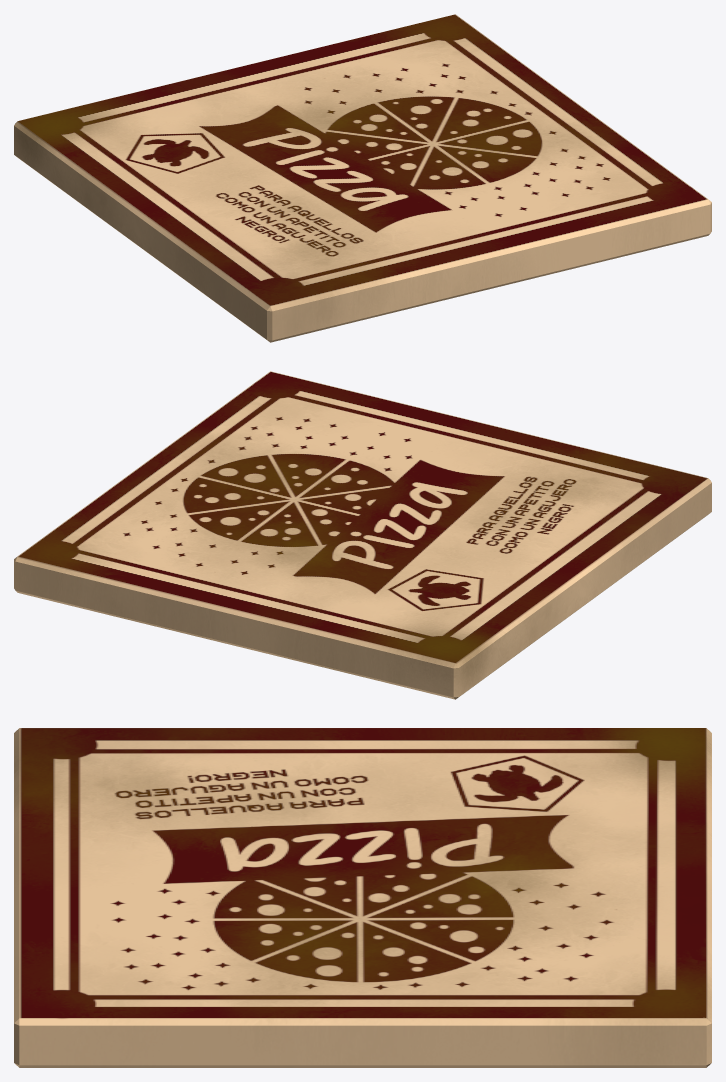
File: Caja_pizza_text.fbx
3 renders of one model, top to bottom at view 1: azimuth 30°, elevation 25°; view 2: azimuth 150°, elevation 25°; view 3: azimuth 270°, elevation 25°, orthographic. The views are drawn at different scales.
Parts seen in each view (by area): view 1: Caja_pizza_geo; view 2: Caja_pizza_geo; view 3: Caja_pizza_geo.
Part boxes in pixels (left/top/right/bottom): Caja_pizza_geo: left=14, top=14, right=711, bottom=342; Caja_pizza_geo: left=14, top=371, right=711, bottom=699; Caja_pizza_geo: left=14, top=728, right=711, bottom=1067.
Bounding box in the file's own units: 40.68 × 3.18 × 40.68.
Materials: 1 (1 with a texture image).
